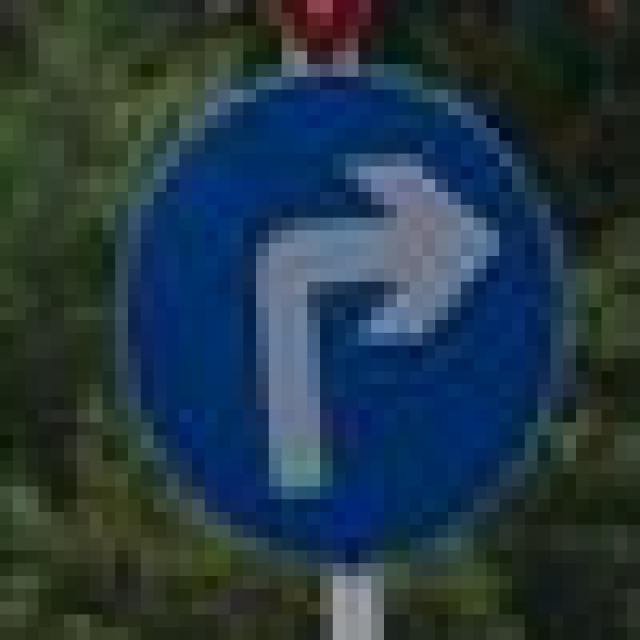railway_crossing: (102, 51, 550, 563)
